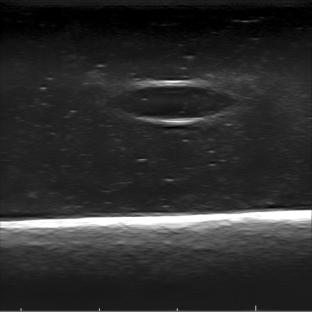vessel: (114, 79, 236, 125)
